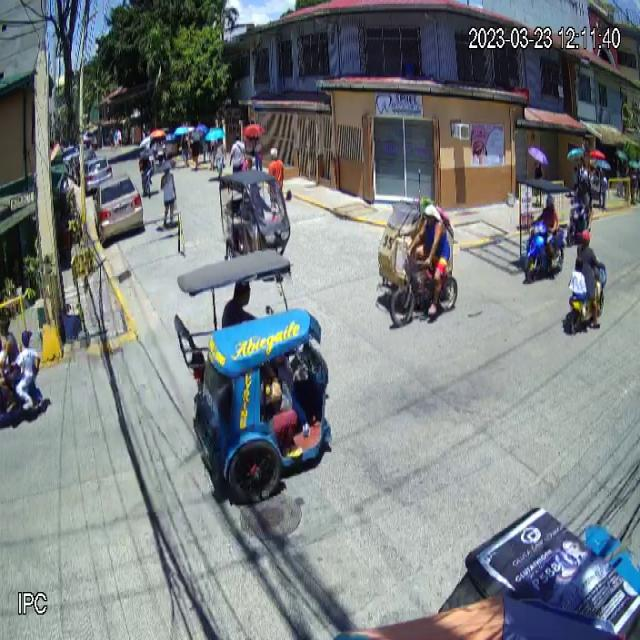Car: (94, 173, 144, 240)
Tricycle: (175, 249, 331, 504), (378, 196, 458, 331)
